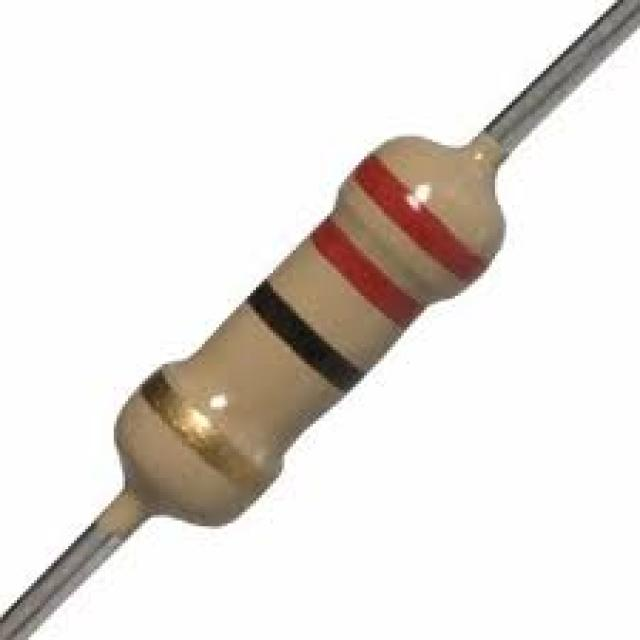Resistor: (121, 146, 487, 521)
